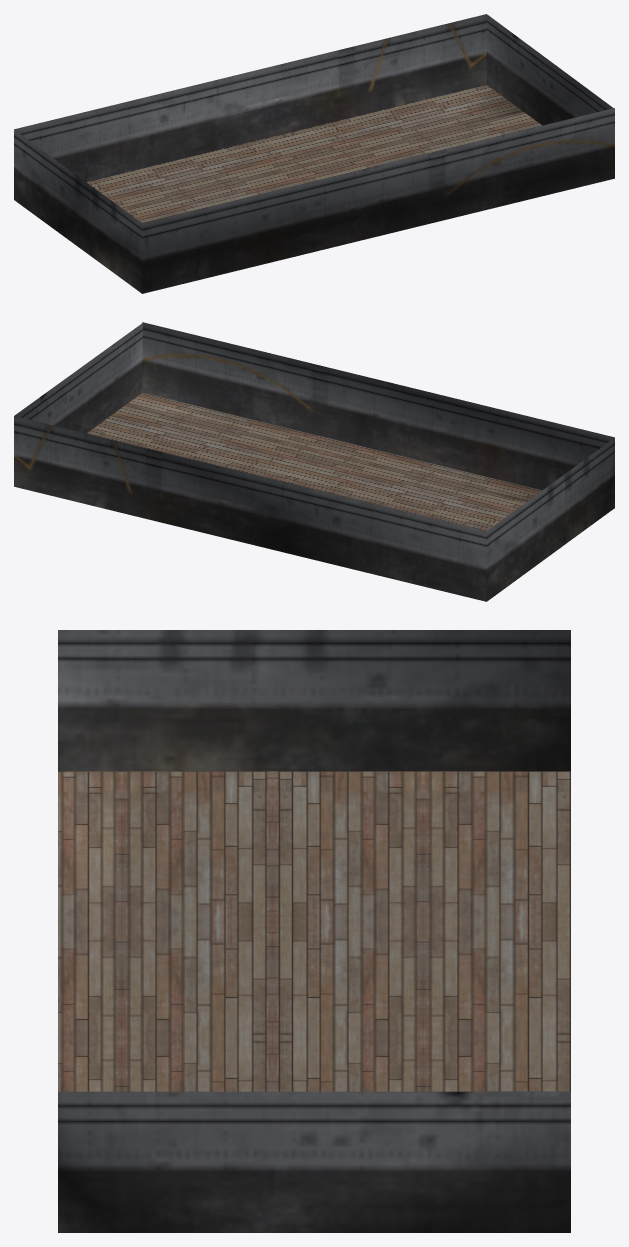
Rendered from cutout_lod0.obj.
The picture shows the model from 3 angles, top to bottom: view 1: azimuth 30°, elevation 25°; view 2: azimuth 150°, elevation 25°; view 3: azimuth 270°, elevation 25°; orthographic projection. The views are drawn at different scales.
Parts seen in each view (by area): view 1: tourism_ship_02_lod0.001_tourism_ship_02_lod0.002; view 2: tourism_ship_02_lod0.001_tourism_ship_02_lod0.002; view 3: tourism_ship_02_lod0.001_tourism_ship_02_lod0.002.
Part boxes in pixels (x1,y1,x2,y2): tourism_ship_02_lod0.001_tourism_ship_02_lod0.002: [14, 14, 614, 293]; tourism_ship_02_lod0.001_tourism_ship_02_lod0.002: [14, 322, 614, 601]; tourism_ship_02_lod0.001_tourism_ship_02_lod0.002: [58, 630, 570, 1232].
Bounding box in the file's own units: 4.25 × 0.6075 × 2.
